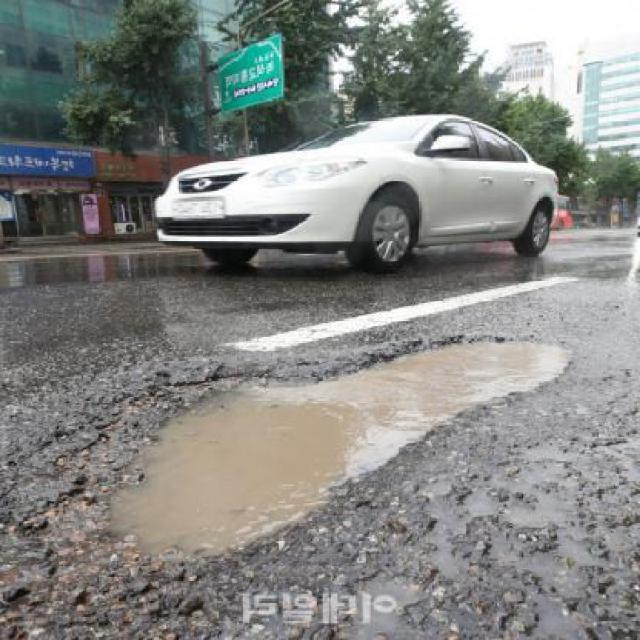pothole: (82, 328, 585, 569)
